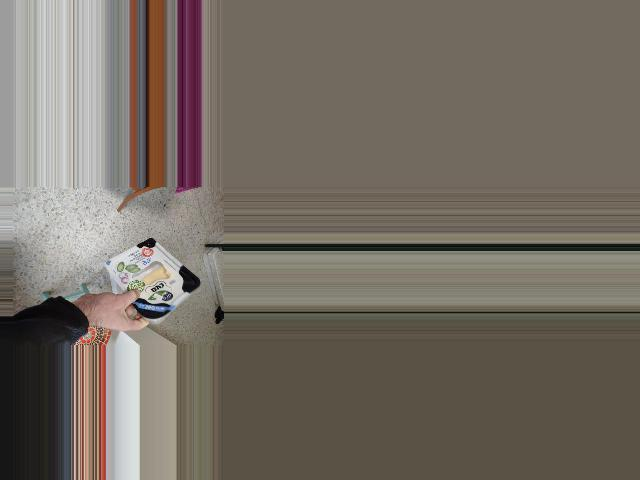cheese: (118, 232, 187, 342)
